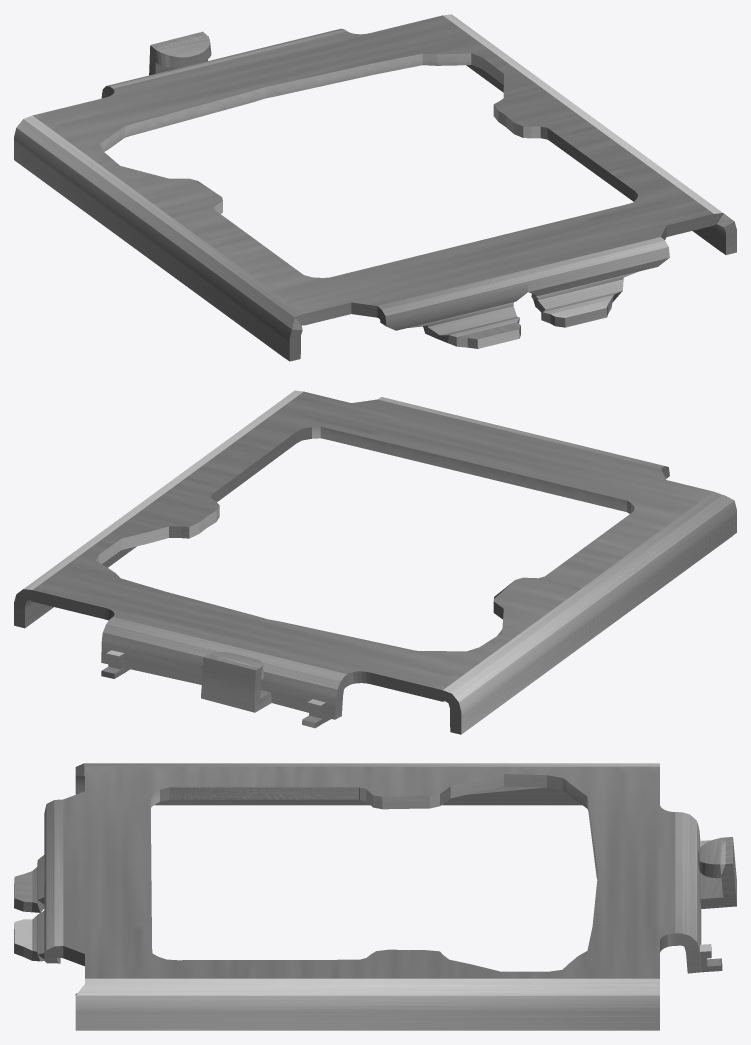
File: крышечка.fbx
3 views of the same model, one above another, from view 1: azimuth 30°, elevation 25°; view 2: azimuth 150°, elevation 25°; view 3: azimuth 270°, elevation 25° (orthographic). The views are drawn at different scales.
Parts seen in each view (by area): view 1: Куб.067; view 2: Куб.067; view 3: Куб.067.
Part boxes in pixels (box(x1,y1,x2,y2)): Куб.067: box(14, 14, 736, 361); Куб.067: box(14, 390, 736, 734); Куб.067: box(14, 763, 736, 1030).
Bounding box in the file's own units: 106 × 12.19 × 140.
